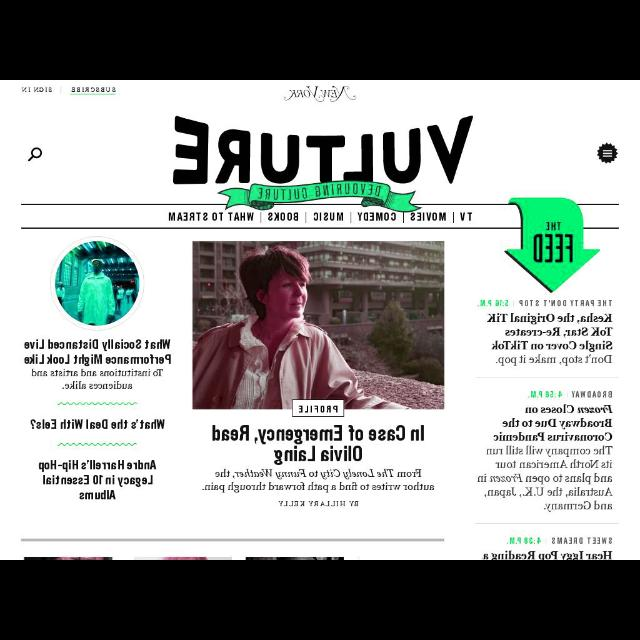icon: (27, 148, 43, 164)
image: (192, 240, 444, 410), (171, 114, 474, 208), (503, 198, 601, 294), (52, 243, 142, 327), (282, 86, 356, 102), (292, 400, 342, 416), (596, 144, 618, 164)
text: (477, 405, 613, 511), (210, 423, 426, 462), (23, 338, 171, 389), (488, 314, 612, 366), (200, 469, 434, 493), (37, 459, 156, 501), (30, 416, 166, 432), (481, 550, 612, 560), (518, 298, 614, 310), (168, 211, 254, 223), (278, 500, 359, 508), (551, 535, 613, 545), (71, 84, 115, 96), (570, 389, 614, 398), (410, 212, 448, 222), (357, 213, 395, 223), (268, 210, 298, 222), (528, 390, 564, 400), (510, 536, 540, 546), (314, 211, 342, 221), (21, 86, 53, 94), (478, 298, 509, 306), (461, 212, 472, 222)
textbutton: (480, 300, 510, 308)
